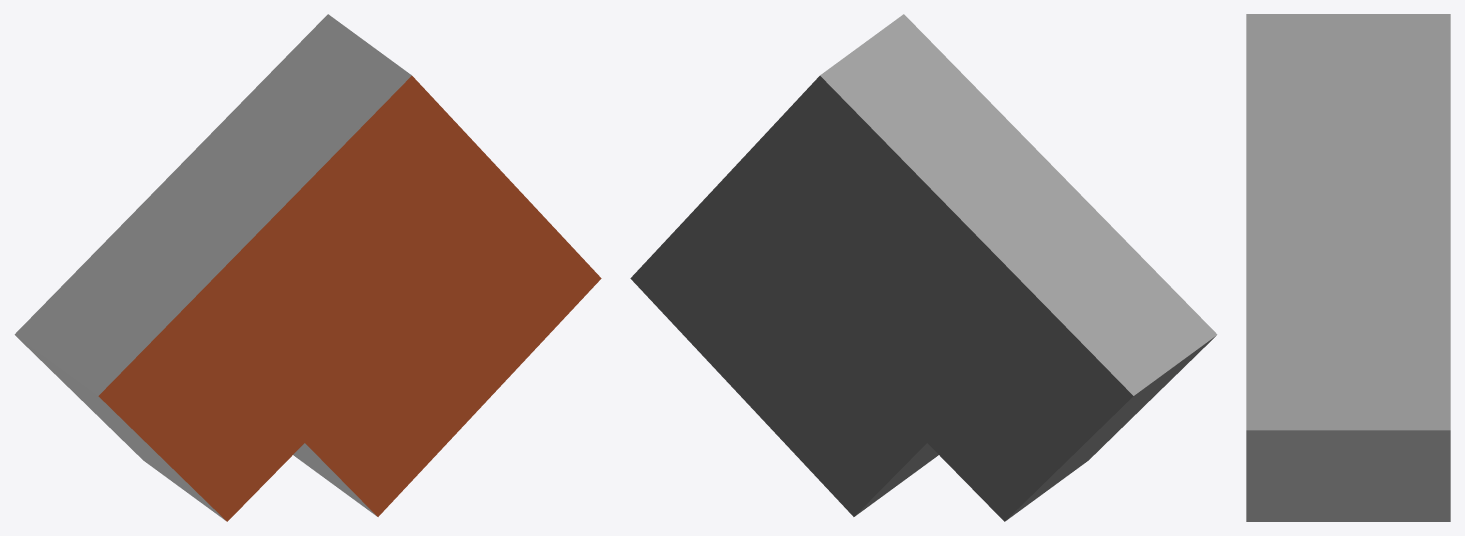
Rendered from construction_3193_assumed_A_Casa_h6m.obj.
The picture shows the model from 3 angles, left to right: view 1: azimuth 30°, elevation 25°; view 2: azimuth 150°, elevation 25°; view 3: azimuth 270°, elevation 25°; orthographic projection. The views are drawn at different scales.
Parts seen in each view (by area): view 1: construction_3193_assumed_A_Casa; view 2: construction_3193_assumed_A_Casa; view 3: construction_3193_assumed_A_Casa.
Boxes of the visible parts, x1,y1,x2,y2 form: construction_3193_assumed_A_Casa: [14, 14, 601, 521]; construction_3193_assumed_A_Casa: [630, 14, 1217, 521]; construction_3193_assumed_A_Casa: [1246, 14, 1450, 521].
Bounding box in the file's own units: 20.76 × 17.09 × 6.
